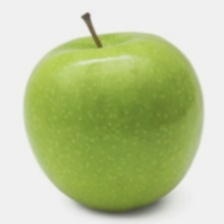apple: (46, 55, 190, 203)
